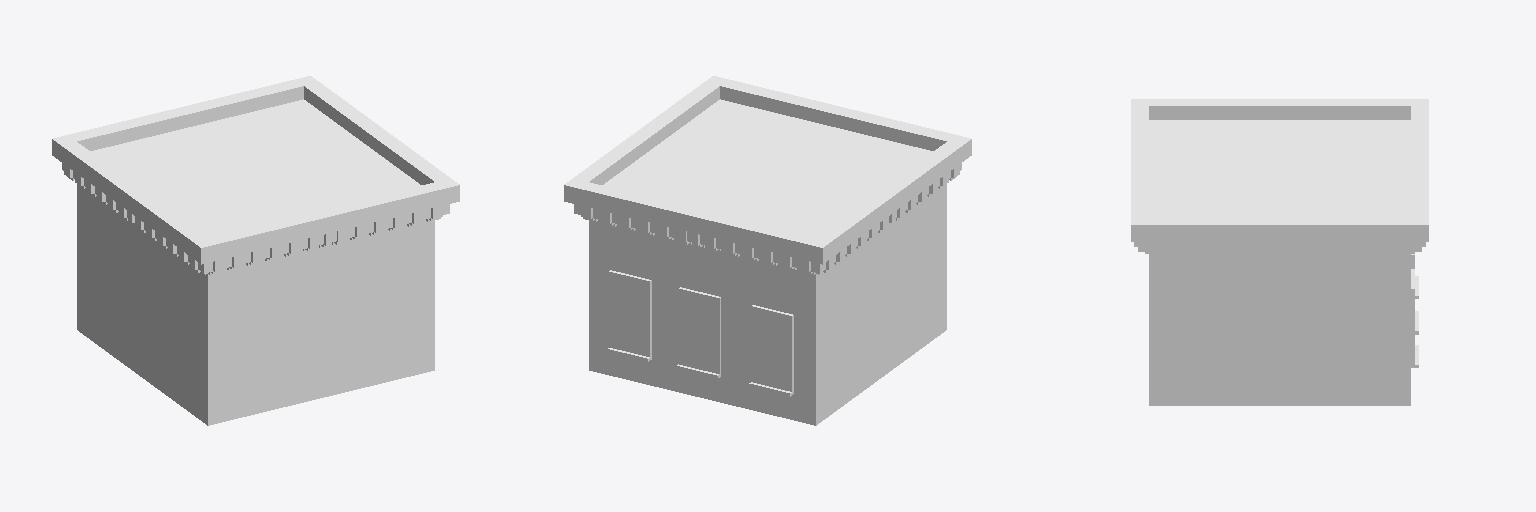
The model's file is ApartmentTop.obj.
3 views of the same model, side by side, from view 1: azimuth 30°, elevation 25°; view 2: azimuth 150°, elevation 25°; view 3: azimuth 270°, elevation 25° (orthographic).
Parts seen in each view (by area): view 1: ApartmentTop; view 2: ApartmentTop; view 3: ApartmentTop.
Boxes of the visible parts, x1=… form: ApartmentTop: x1=52, y1=76, x2=459, y2=425; ApartmentTop: x1=564, y1=76, x2=971, y2=425; ApartmentTop: x1=1131, y1=99, x2=1428, y2=405.
Size of the model in its own units: 82 by 57 by 82.